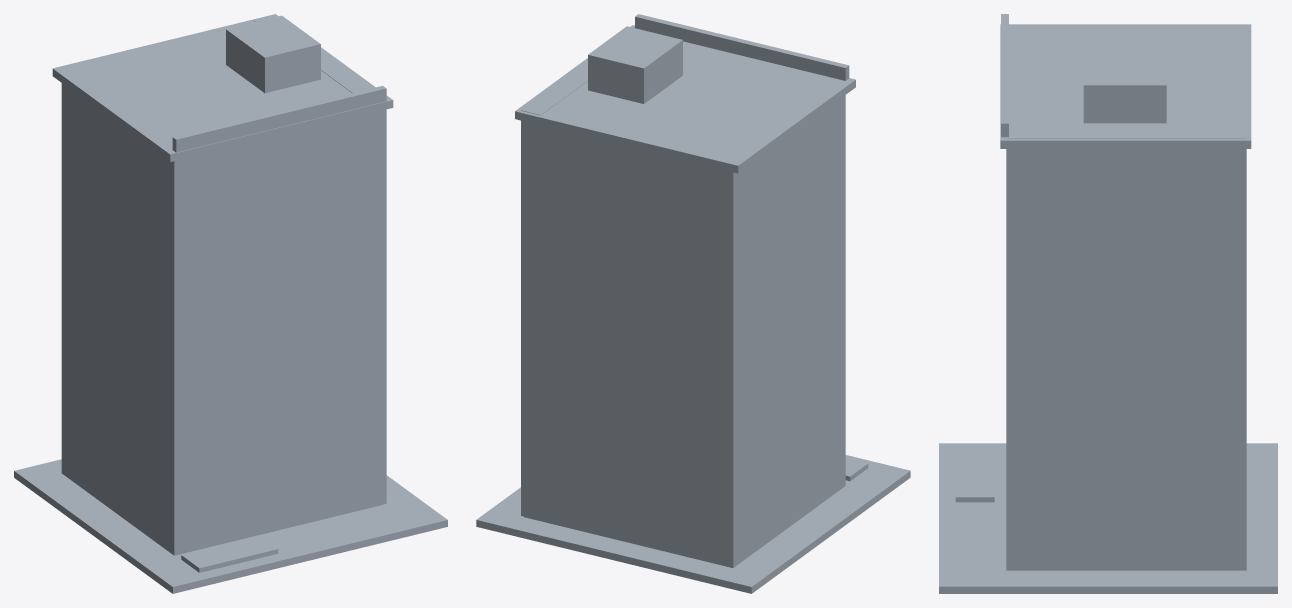
Rendered from varandas.glb.
3 views of the same model, side by side, from view 1: azimuth 30°, elevation 25°; view 2: azimuth 150°, elevation 25°; view 3: azimuth 270°, elevation 25° (orthographic). The views are drawn at different scales.
Visible parts, largest first — view 1: varandas-brick-2, varandas-plaster-3, varandas-stone-1, varandas-plaster-4, varandas-slate-6, varandas-plaster-5, varandas-stone-7; view 2: varandas-brick-2, varandas-plaster-3, varandas-stone-1, varandas-slate-6, varandas-plaster-5, varandas-plaster-4; view 3: varandas-plaster-4, varandas-plaster-3, varandas-stone-1, varandas-slate-6, varandas-stone-7, varandas-plaster-5.
Boxes of the visible parts, x1,y1,x2,y2 form: varandas-brick-2: (61, 83, 382, 555); varandas-plaster-3: (52, 14, 393, 162); varandas-stone-1: (14, 459, 447, 593); varandas-plaster-4: (254, 16, 386, 508); varandas-slate-6: (226, 15, 320, 93); varandas-plaster-5: (172, 86, 386, 152); varandas-stone-7: (181, 536, 278, 572); varandas-brick-2: (524, 95, 845, 567); varandas-plaster-3: (515, 25, 855, 173); varandas-stone-1: (476, 455, 910, 593); varandas-slate-6: (588, 26, 682, 103); varandas-plaster-5: (635, 14, 849, 80); varandas-plaster-4: (521, 27, 633, 516); varandas-plaster-4: (1006, 128, 1246, 570); varandas-plaster-3: (1000, 24, 1251, 148); varandas-stone-1: (939, 443, 1277, 593); varandas-slate-6: (1083, 56, 1166, 123); varandas-stone-7: (955, 456, 994, 502); varandas-plaster-5: (1001, 14, 1008, 137).
Size of the model in its own units: 10.8 by 16.8 by 10.8.
